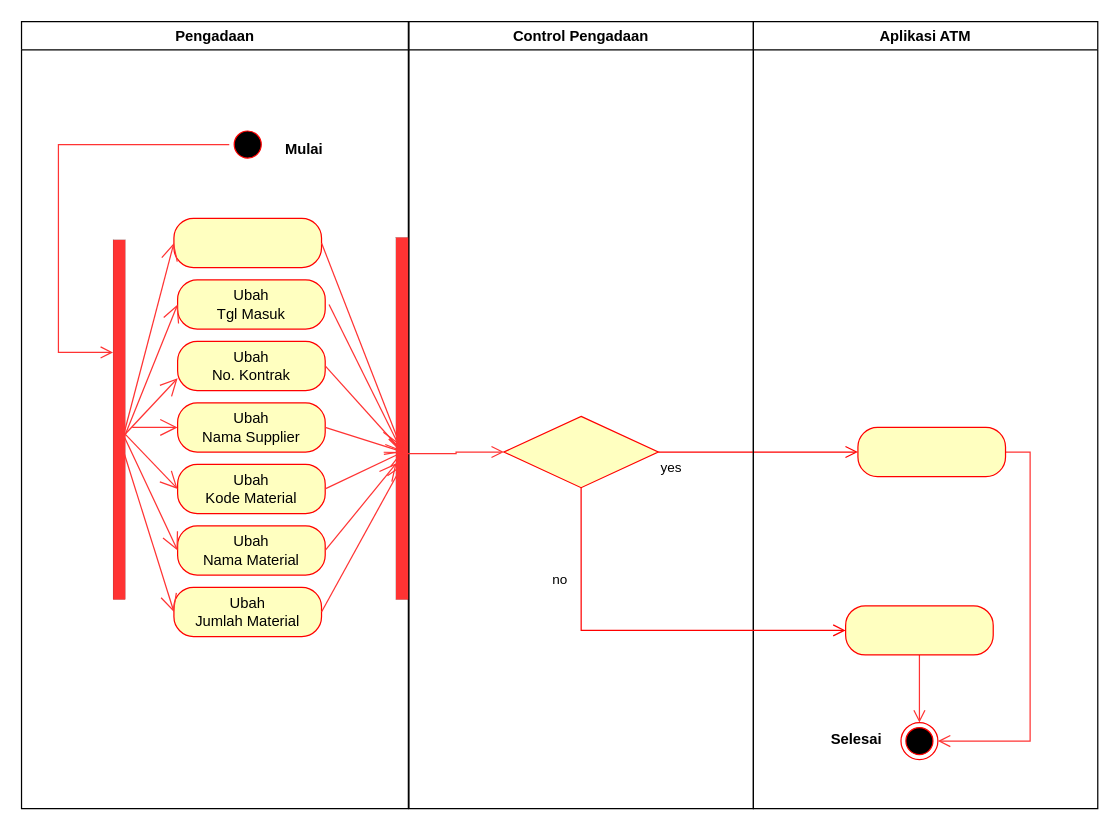
This 1119x830 diagram has some shape labels left out. Here are the shapes that lost their labels. From the top down, the centre of each, then its label:
pixel 247 242: Masukkan No SPBM
pixel 580 451: tekan simpan
pixel 931 451: Simpan Data
pixel 918 630: Menu Edit Barang Material Masuk
